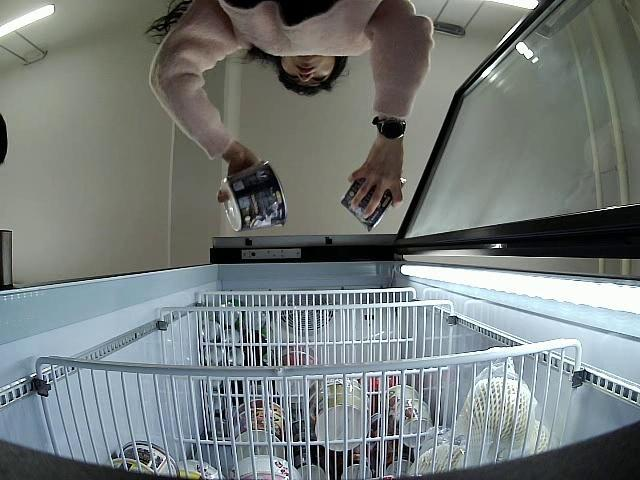07_buldak_L: (218, 162, 287, 230), (340, 181, 405, 234)
